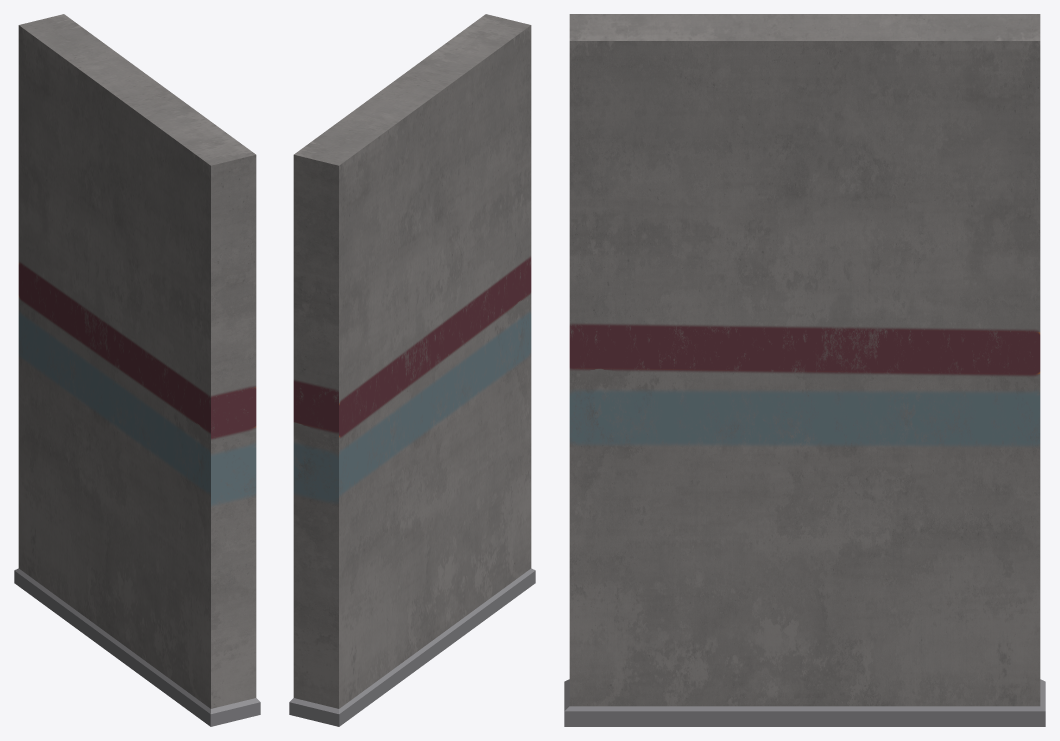
File: VerticalHalfWall_L.fbx
3 renders of one model, left to right at view 1: azimuth 30°, elevation 25°; view 2: azimuth 150°, elevation 25°; view 3: azimuth 270°, elevation 25°, orthographic. The views are drawn at different scales.
Parts seen in each view (by area): view 1: VerticalHalfWall_L; view 2: VerticalHalfWall_L; view 3: VerticalHalfWall_L.
Part boxes in pixels (x1,y1,x2,y2): VerticalHalfWall_L: [14, 14, 260, 726]; VerticalHalfWall_L: [289, 14, 535, 726]; VerticalHalfWall_L: [564, 14, 1045, 726].
Size of the model in its own units: 56.1 by 600 by 383.
